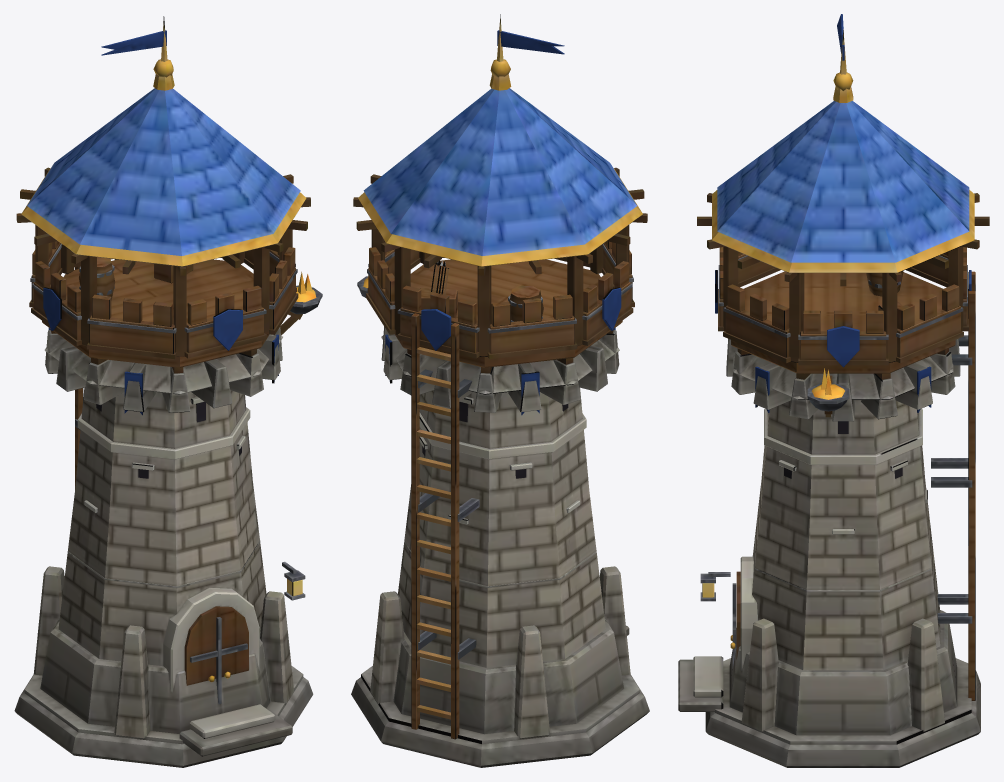
Rendered from watchtower.glb.
3 renders of one model, left to right at view 1: azimuth 30°, elevation 25°; view 2: azimuth 150°, elevation 25°; view 3: azimuth 270°, elevation 25°, orthographic.
Parts seen in each view (by area): view 1: Static_Mesh, Anim_Banners; view 2: Static_Mesh, Anim_Banners; view 3: Static_Mesh, Anim_Banners.
Boxes of the visible parts, box(x1,y1,x2,y2) form: Static_Mesh: box(14, 16, 322, 767); Anim_Banners: box(43, 30, 278, 415); Static_Mesh: box(351, 14, 649, 767); Anim_Banners: box(385, 30, 621, 415); Static_Mesh: box(678, 29, 989, 767); Anim_Banners: box(715, 14, 971, 412).
Size of the model in its own units: 4.18 by 10.05 by 4.15.
Materials: 2 (2 with a texture image).
